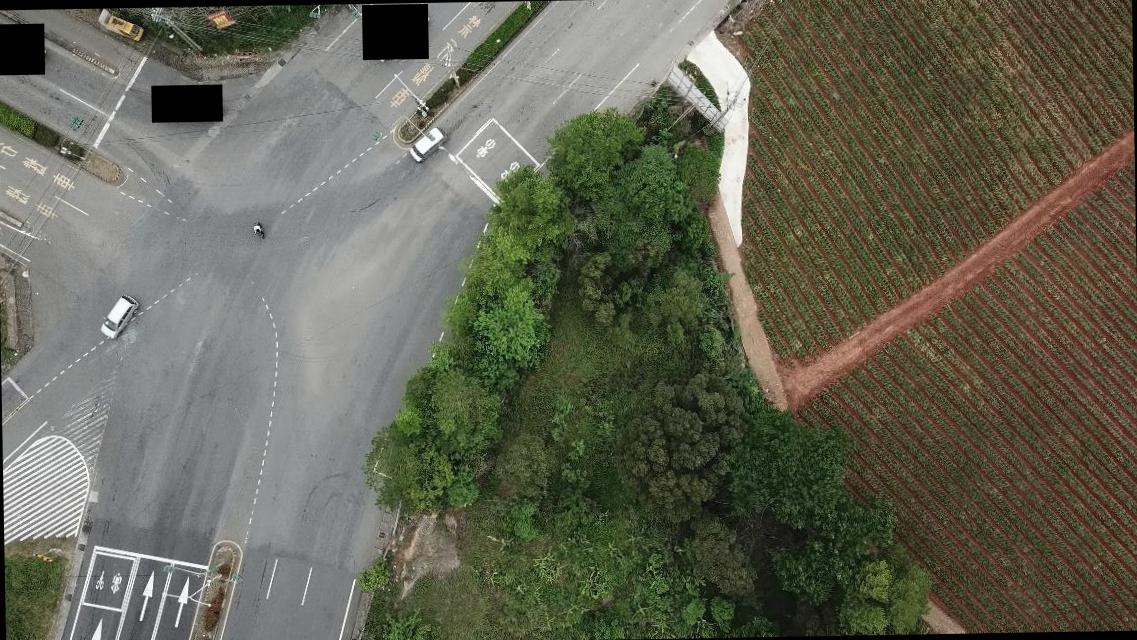vehicle: (98, 292, 138, 338), (408, 125, 449, 163), (105, 14, 145, 40)
